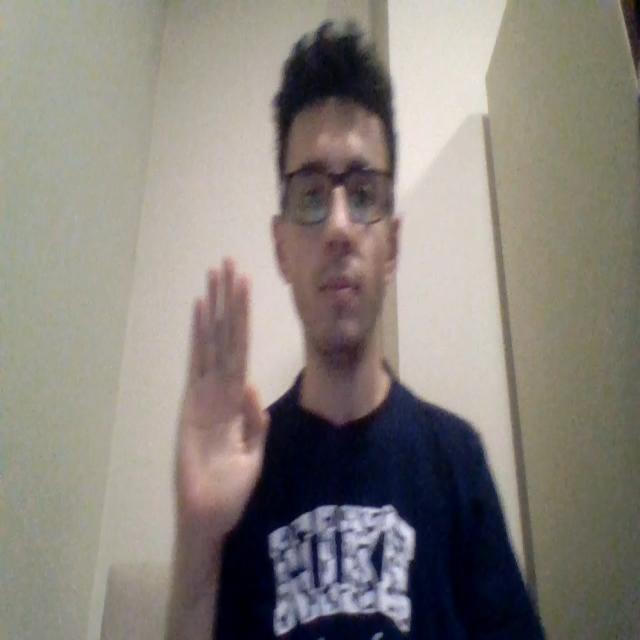hello: (174, 254, 270, 539)
